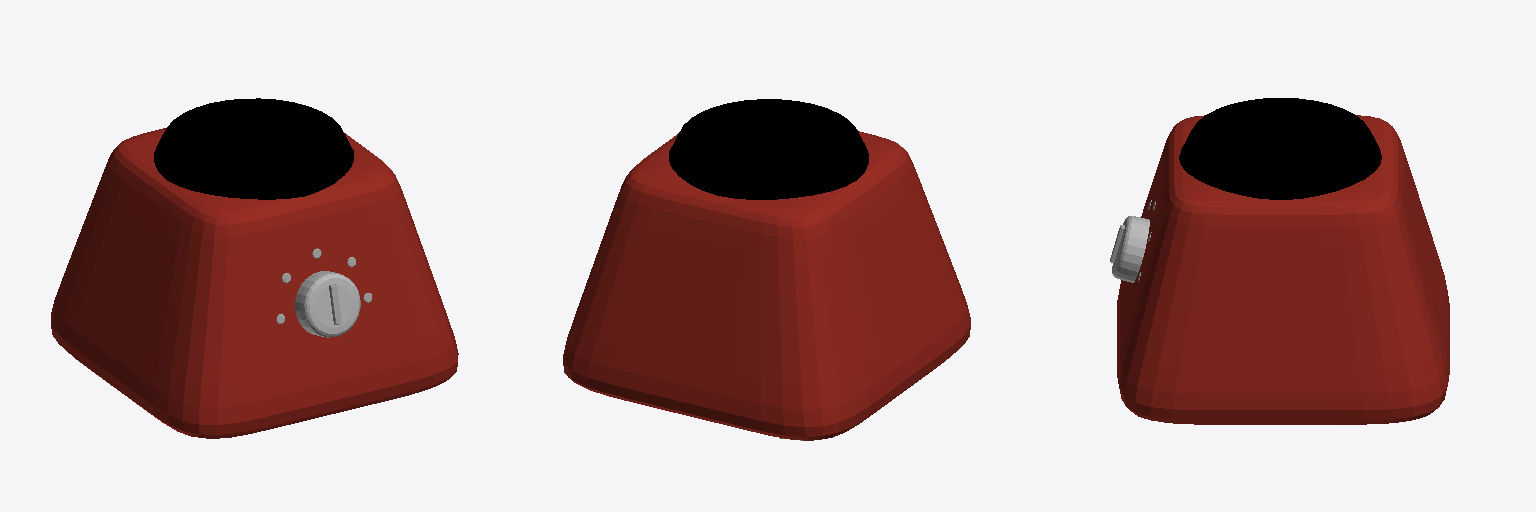
3 views of the same model, side by side, from view 1: azimuth 30°, elevation 25°; view 2: azimuth 150°, elevation 25°; view 3: azimuth 270°, elevation 25° (orthographic).
Visible parts, largest first — view 1: obj1.004, obj1.005, obj3; view 2: obj1.004, obj1.005; view 3: obj1.004, obj1.005, obj3.
Part boxes in pixels (x1,y1,x2,y2): obj1.004: (51,128,458,438); obj1.005: (154,98,353,199); obj3: (276,248,371,337); obj1.004: (563,131,970,440); obj1.005: (669,99,868,199); obj1.004: (1117,115,1449,424); obj1.005: (1179,98,1381,199); obj3: (1112,200,1155,282).
Bounding box in the file's own units: 1.89 × 1.51 × 1.92.
2 materials, 1 textured.